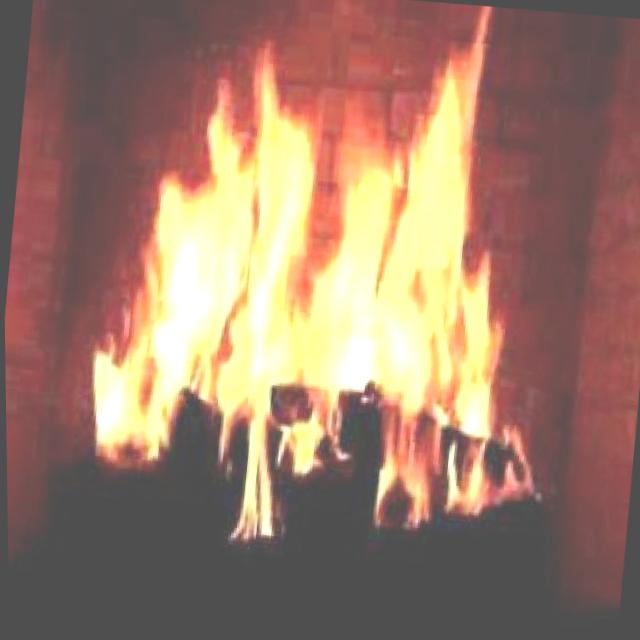helmet: (60, 0, 596, 586)
